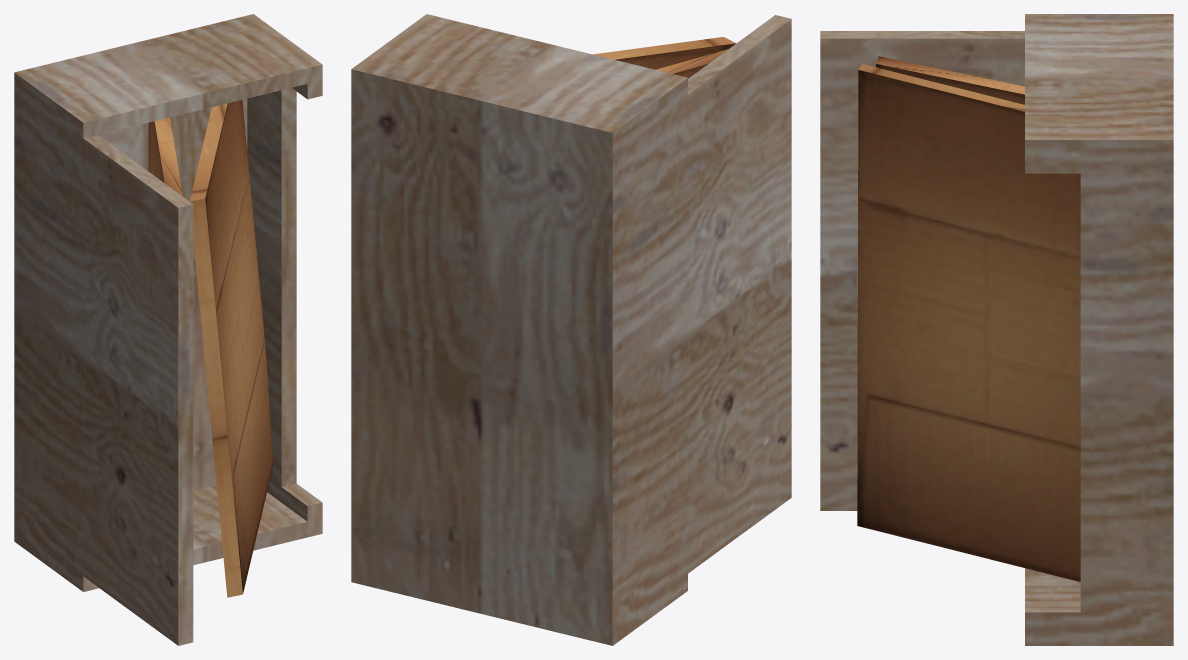
The model's file is box_holder.vmf.obj.
The picture shows the model from 3 angles, left to right: view 1: azimuth 30°, elevation 25°; view 2: azimuth 150°, elevation 25°; view 3: azimuth 270°, elevation 25°; orthographic projection. The views are drawn at different scales.
Visible parts, largest first — view 1: 4, 6, 9, 7, 3, 2, 5, 10; view 2: 3, 4, 9, 7, 2, 6, 5; view 3: 6, 7, 4, 9, 2, 5, 10, 8.
Boxes of the visible parts, x1,y1,x2,y2 form: 4: (23, 94, 193, 645); 6: (189, 100, 273, 597); 9: (14, 14, 322, 138); 7: (247, 88, 296, 502); 3: (14, 88, 247, 531); 2: (14, 485, 322, 591); 5: (148, 117, 182, 196); 10: (281, 483, 322, 521); 3: (367, 90, 621, 628); 4: (596, 15, 791, 621); 9: (351, 14, 687, 149); 7: (351, 86, 367, 568); 2: (351, 565, 687, 645); 6: (593, 37, 735, 69); 5: (656, 49, 728, 78); 6: (857, 64, 1080, 581); 7: (1080, 156, 1173, 628); 4: (820, 31, 1024, 510); 9: (1025, 14, 1173, 156); 2: (1025, 568, 1173, 645); 5: (876, 56, 1024, 104); 10: (1025, 604, 1080, 628); 8: (1025, 156, 1080, 173).
Bounding box in the file's own units: 16.01 × 30 × 19.
Materials: 2 (2 with a texture image).
